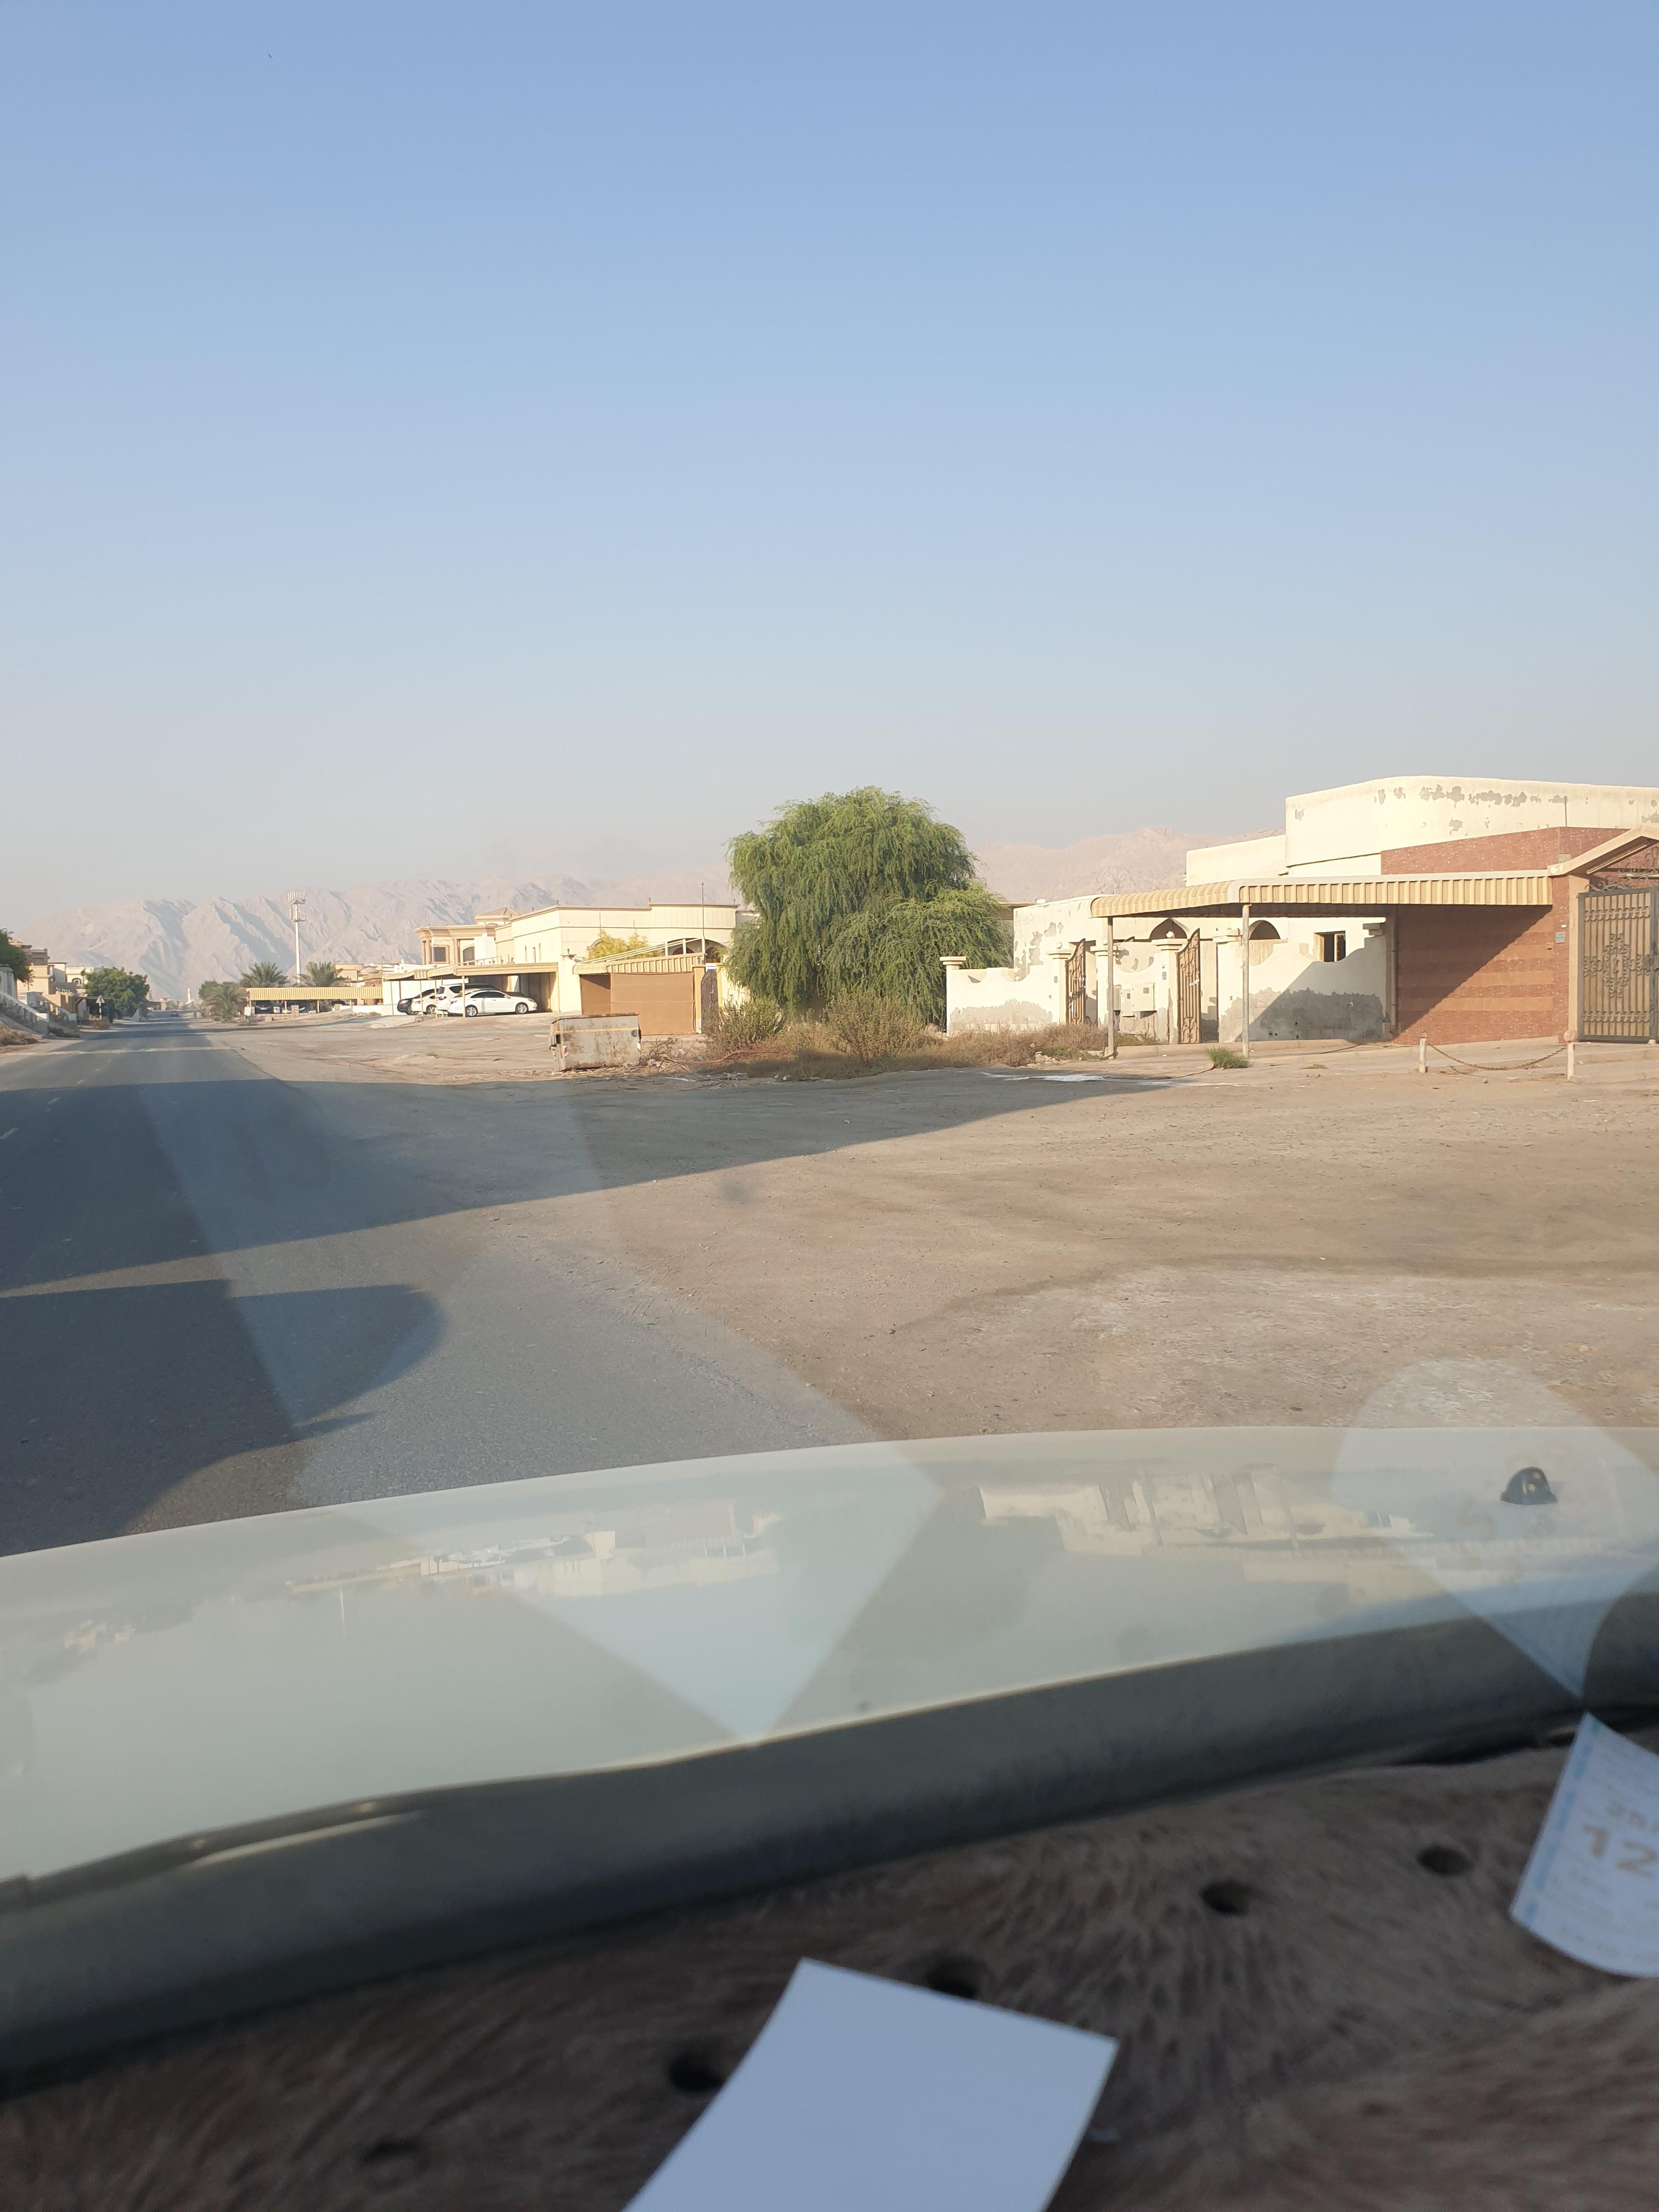fallen_trees: (645, 1045, 770, 1082), (558, 1066, 676, 1094), (659, 1066, 762, 1097)
